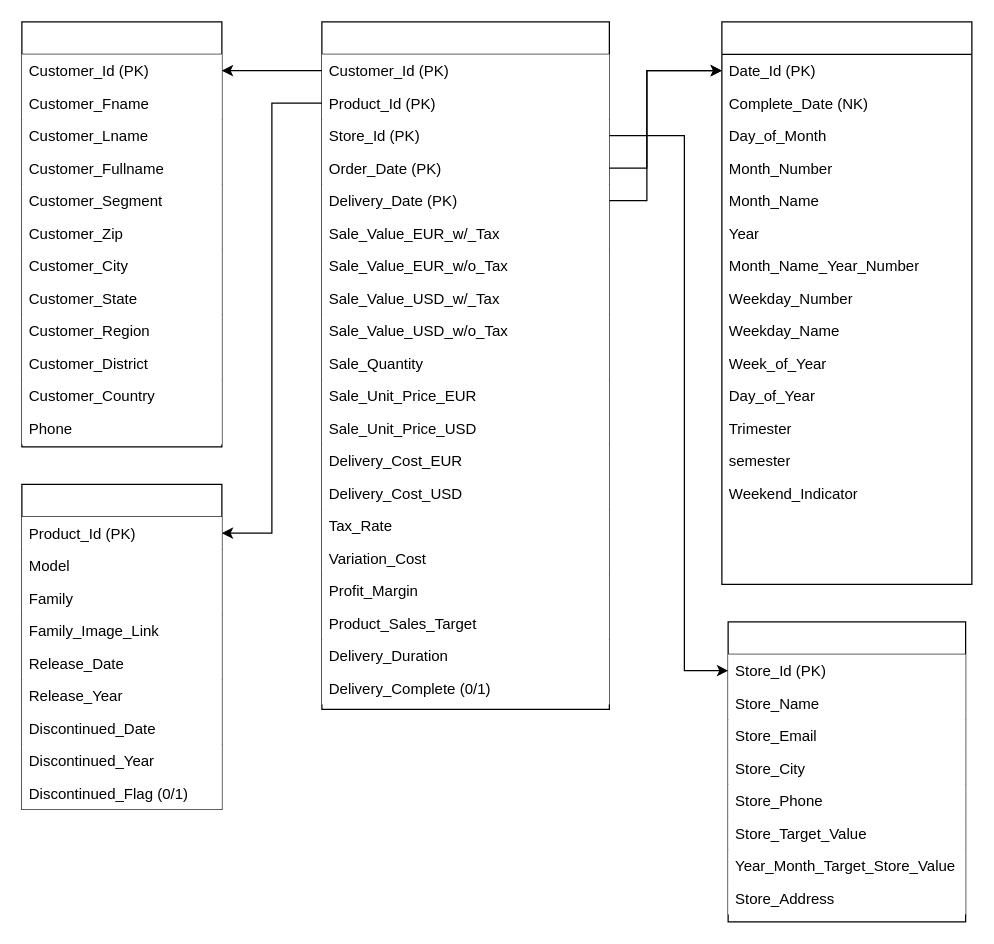
This 994x944 diagram has some shape labels left out. Each missing label, with the box of its shape:
Dim_Customer: (21, 21, 222, 447)
Dim_Date: (721, 21, 972, 584)
Dim_Product: (21, 483, 222, 809)
Dim_Store: (727, 621, 966, 922)
Fact_Sales: (321, 21, 609, 709)
